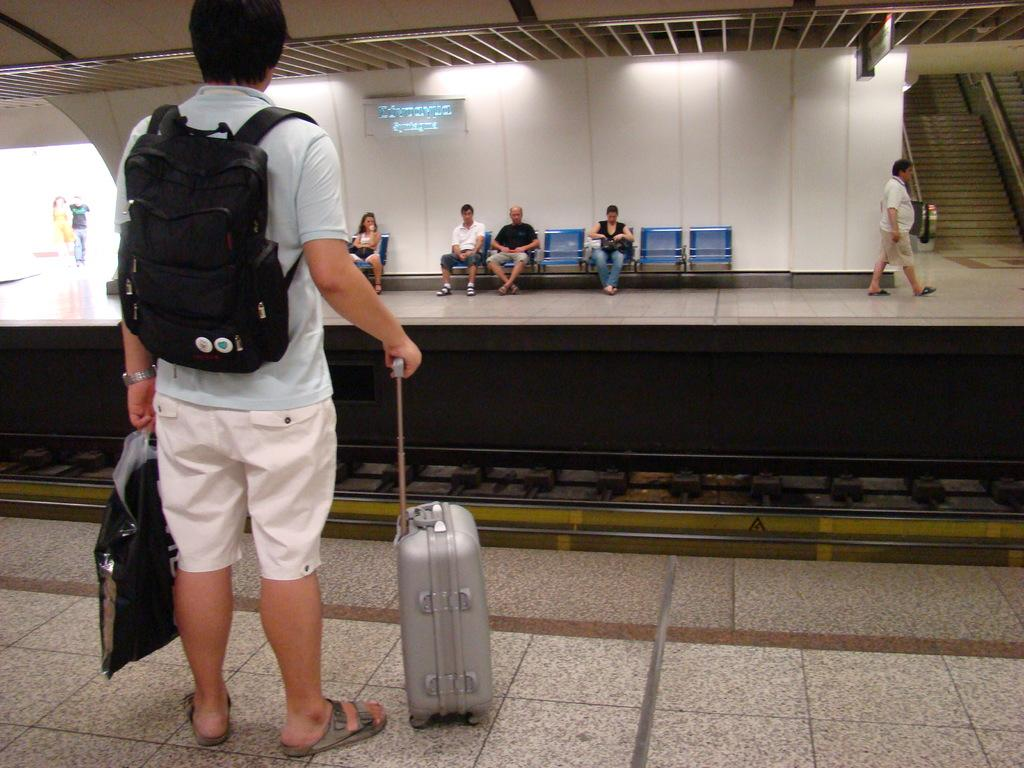Luggage-and-bags: (105, 113, 310, 333), (392, 360, 490, 733), (91, 418, 186, 686), (355, 243, 371, 260), (604, 239, 625, 250)
